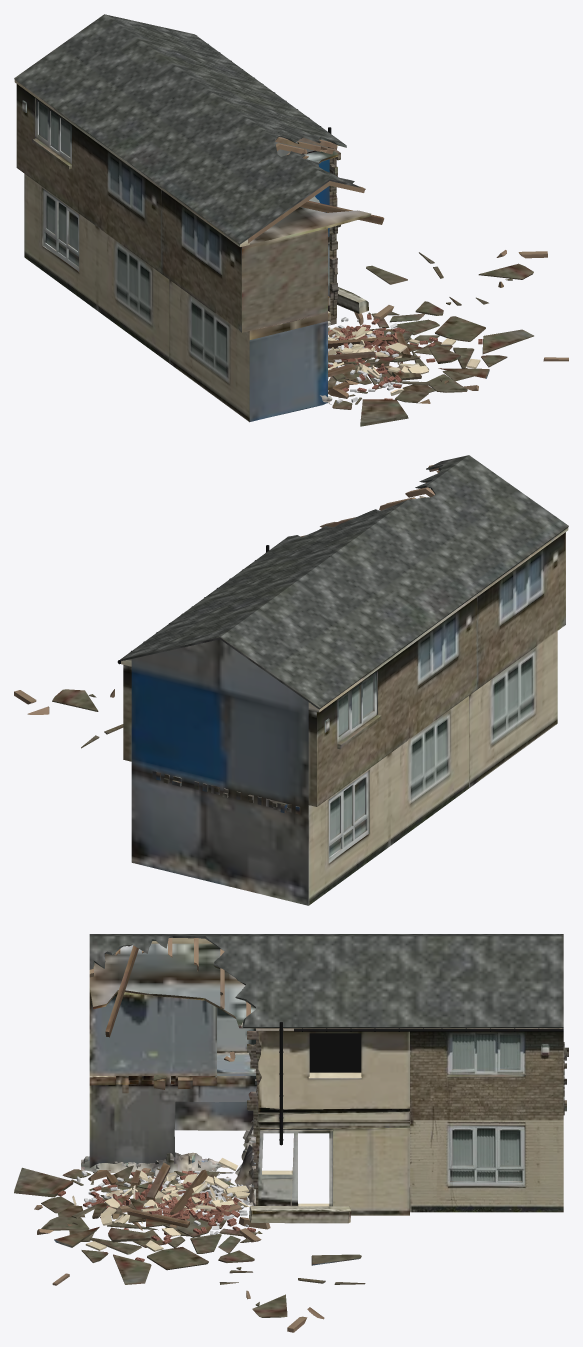
The model's file is bldg_collapsed.glb.
3 views of the same model, one above another, from view 1: azimuth 30°, elevation 25°; view 2: azimuth 150°, elevation 25°; view 3: azimuth 270°, elevation 25° (orthographic). The views are drawn at different scales.
Parts seen in each view (by area): view 1: Object_2, Object_3, Object_5; view 2: Object_3, Object_2; view 3: Object_3, Object_2, Object_5.
Boxes of the visible parts, x1,y1,x2,y2 form: Object_2: (14,14,568,426); Object_3: (14,80,489,422); Object_5: (328,317,402,403); Object_3: (121,496,568,905); Object_2: (14,455,568,748); Object_3: (54,938,568,1265); Object_2: (14,934,563,1332); Object_5: (76,1170,249,1235).
Bounding box in the file's own units: 22.42 × 12.02 × 25.27.
3 materials, 2 textured.
